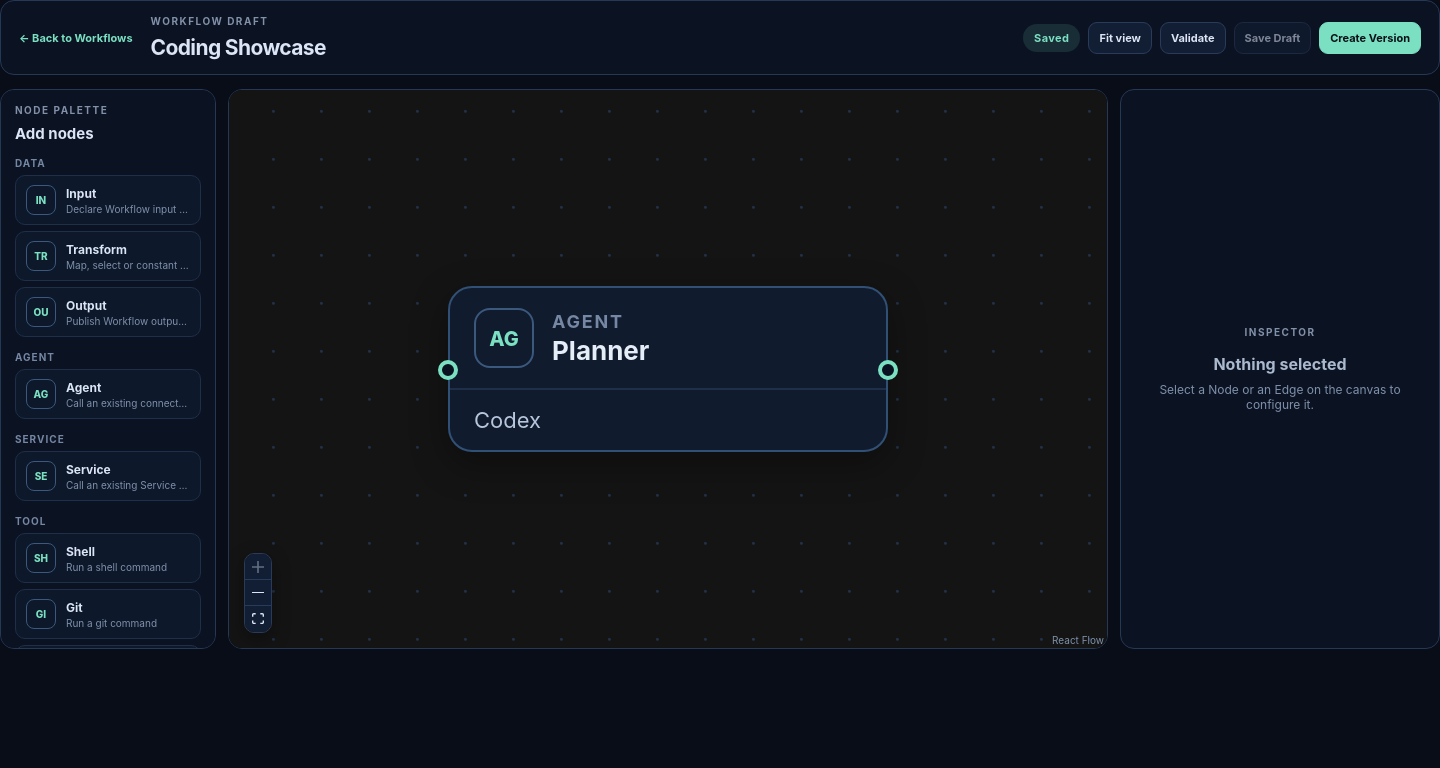
Test case: WorkflowBuilderPage › runs backend validation and renders issues in the panel
Check: the heading "Coding Showcase" is shown, box [151, 35, 326, 60]
Click the button "Validate": [1193, 38] box [1160, 22, 1226, 54]
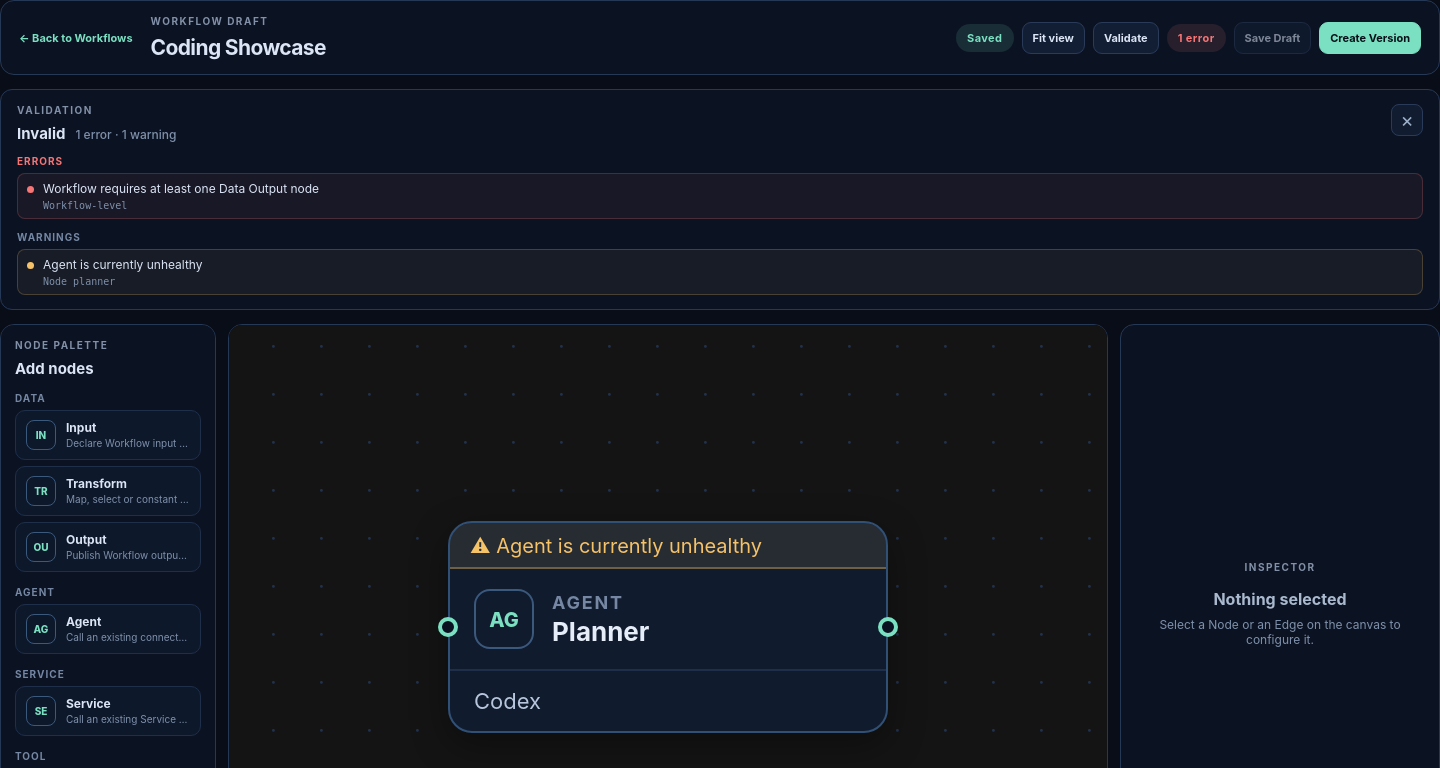
Check: the text "Workflow requires at least one Data Output node" is shown, box [43, 181, 319, 198]
Check: the text "Agent is currently unhealthy" is shown, box [43, 257, 202, 274]
